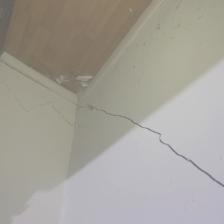Medium: (107, 108, 222, 189)
